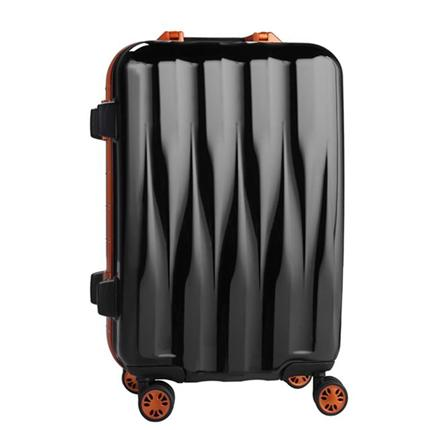suitcase: (91, 31, 347, 422)
